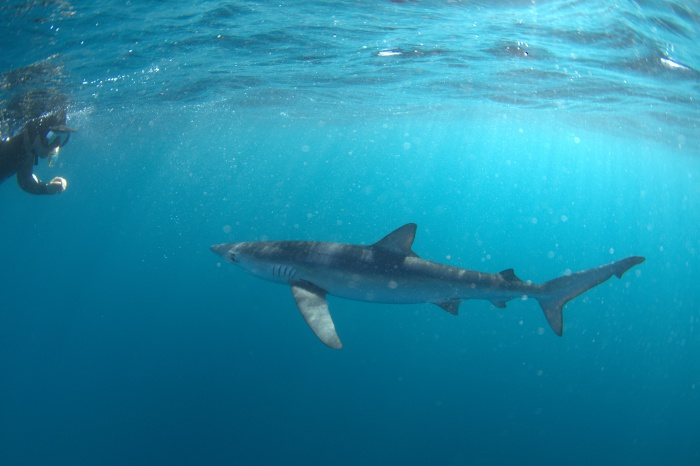Azul: (200, 210, 651, 359)
